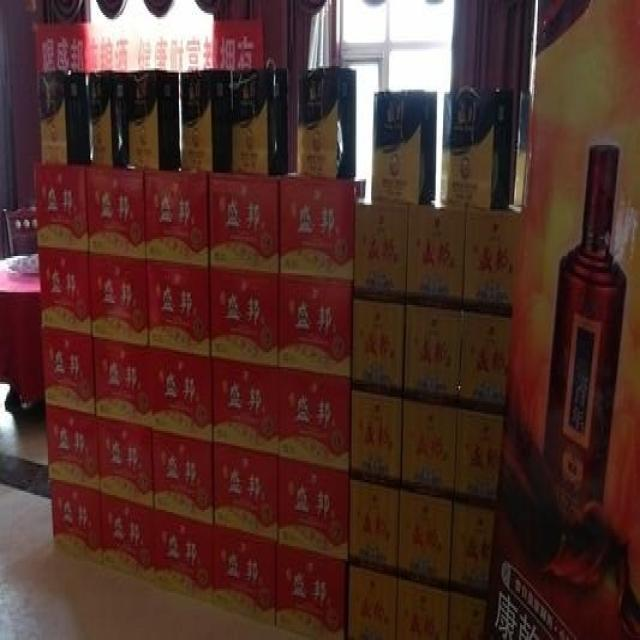box: (278, 173, 365, 281), (276, 274, 353, 376), (279, 366, 351, 471), (278, 457, 349, 561), (209, 173, 279, 273), (211, 526, 279, 627), (276, 542, 347, 638), (462, 203, 521, 317), (405, 200, 466, 310), (212, 355, 279, 455), (213, 442, 279, 542), (210, 271, 278, 366), (144, 171, 210, 268), (399, 392, 458, 499), (148, 348, 214, 443), (146, 260, 211, 356), (151, 428, 214, 526), (402, 302, 462, 402), (397, 485, 453, 588), (353, 196, 408, 300), (85, 168, 147, 259), (458, 310, 513, 411), (88, 254, 148, 346), (349, 381, 402, 484), (154, 509, 212, 603), (97, 416, 154, 509), (93, 335, 151, 426), (351, 294, 405, 391), (453, 402, 503, 505), (348, 472, 399, 572), (101, 491, 154, 585), (41, 328, 96, 413), (448, 499, 496, 596), (35, 167, 89, 252), (38, 250, 91, 335), (50, 480, 102, 566), (47, 407, 100, 491), (345, 562, 397, 638), (396, 575, 449, 638), (448, 590, 487, 637)
